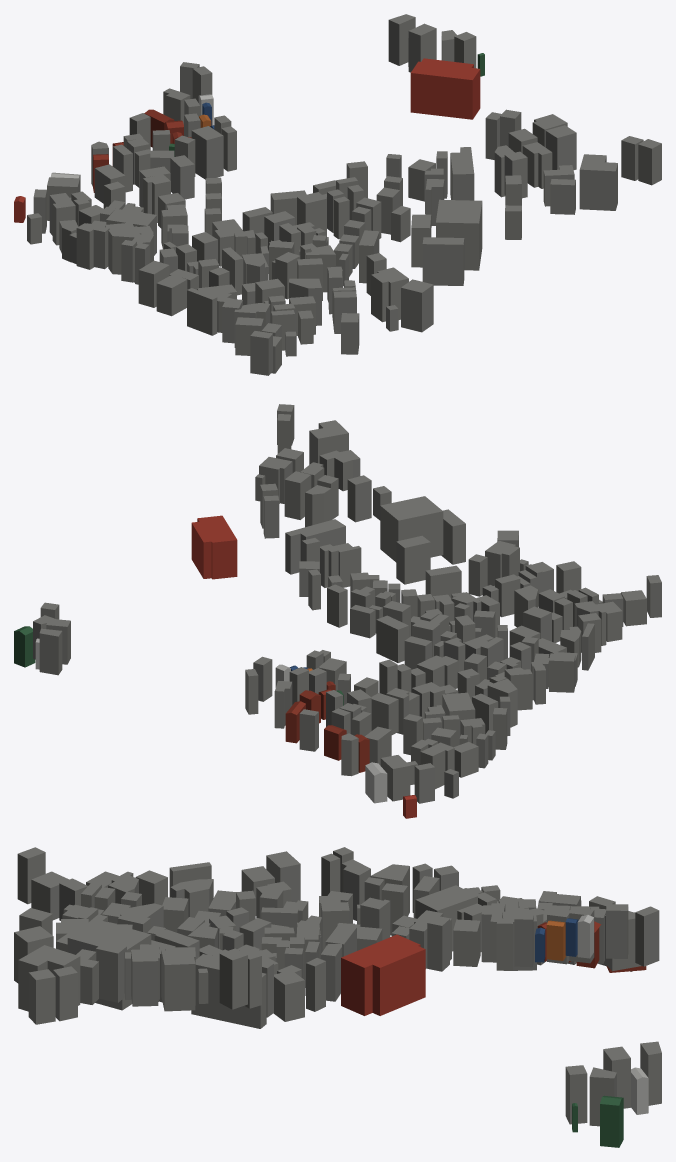
Rendered from near-17-109445-59475.aa11a0ce.glb.
3 renders of one model, top to bottom at view 1: azimuth 30°, elevation 25°; view 2: azimuth 150°, elevation 25°; view 3: azimuth 270°, elevation 25°, orthographic. The views are drawn at different scales.
Size of the model in its own units: 305 by 103 by 301.
